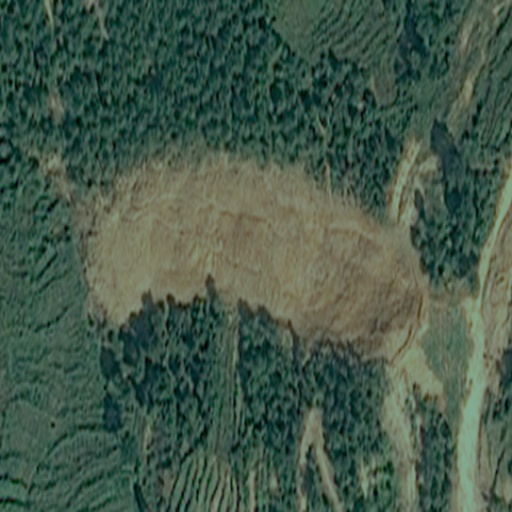landslide: (78, 146, 431, 353)
